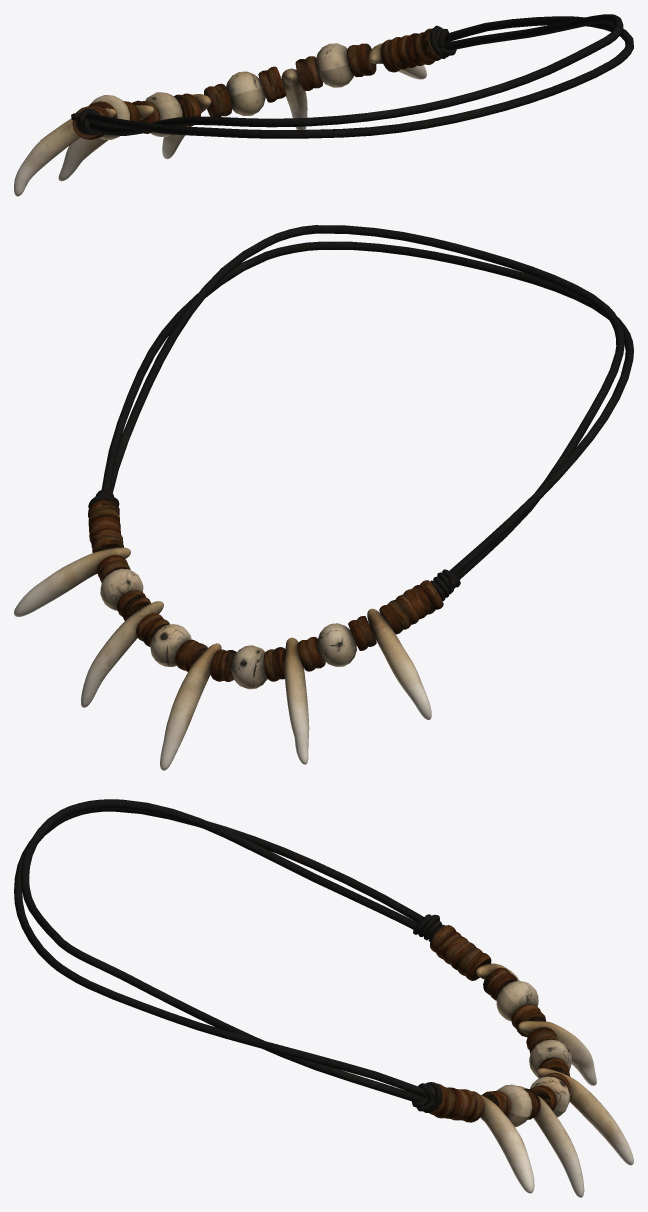
File: teeth-necklace.glb
3 views of the same model, one above another, from view 1: azimuth 30°, elevation 25°; view 2: azimuth 150°, elevation 25°; view 3: azimuth 270°, elevation 25° (orthographic). The views are drawn at different scales.
Visible parts, largest first — view 1: Object_2; view 2: Object_2; view 3: Object_2.
Part boxes in pixels (left/top/right/bottom): Object_2: left=14, top=14, right=633, bottom=196; Object_2: left=14, top=225, right=633, bottom=770; Object_2: left=14, top=799, right=633, bottom=1197.
Bounding box in the file's own units: 0.1369 × 0.0904 × 0.1738.
1 material, 1 textured.
